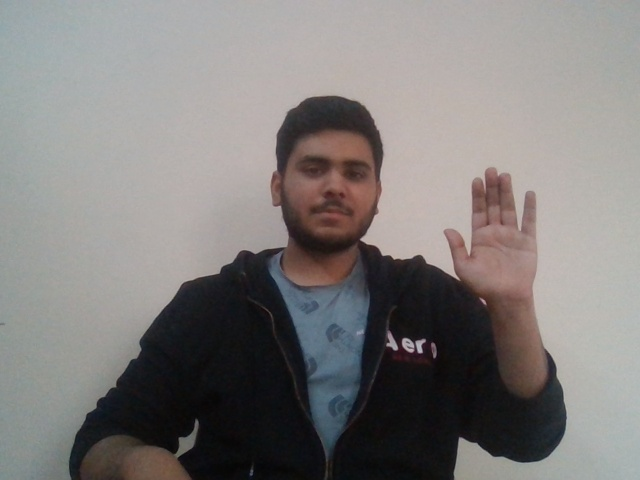Hello: (433, 164, 556, 304)
